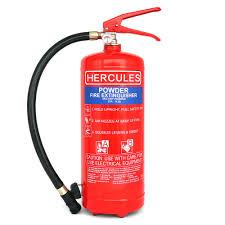fire-extinguisher: (26, 7, 167, 217)
